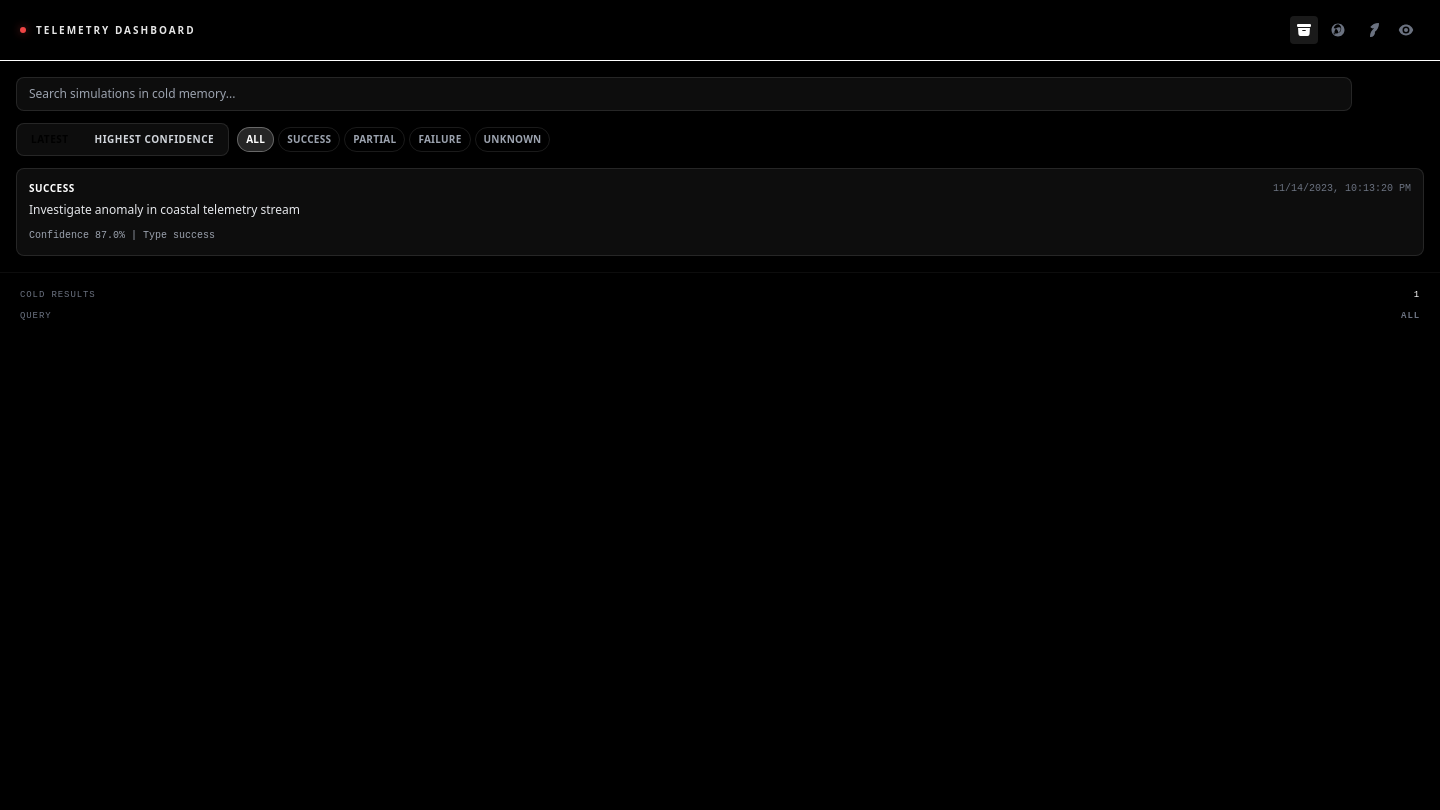
Test: SimulationVisualizer memory mode › defaults to retrieval-first rendering and supports click-through detail pane
Expected: the element with test id "simulation-memory-mode" is shown, [0, 61, 1439, 272]
Click the text "Investigate anomaly in coastal telemetry stream".
click(164, 210)  # box [29, 201, 300, 218]
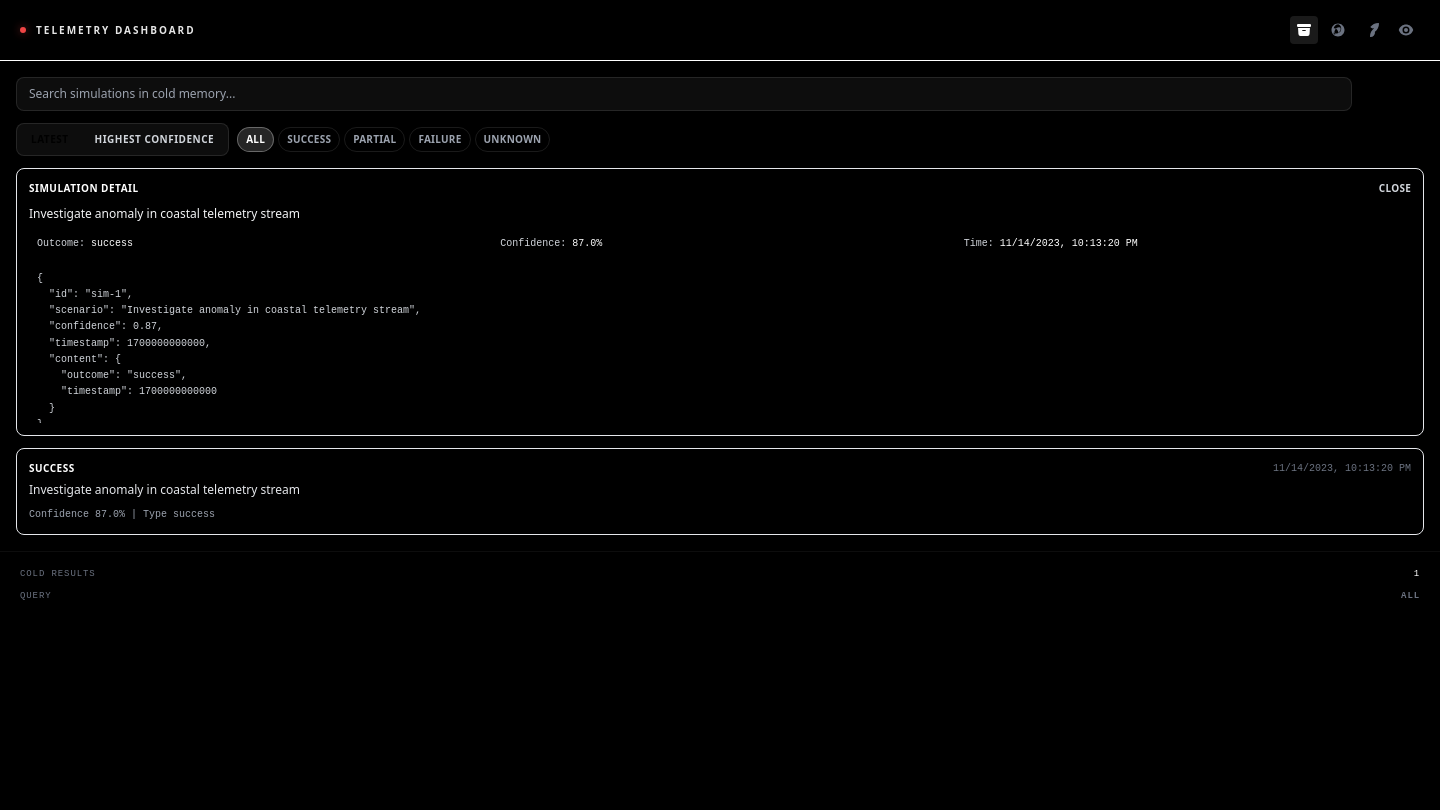
Expected: the text "Simulation Detail" is shown, [29, 181, 139, 196]
Expected: the text "Outcome: success" is shown, [29, 232, 484, 254]
Expected: the text "Confidence: 87.0%" is shown, [492, 232, 948, 254]
